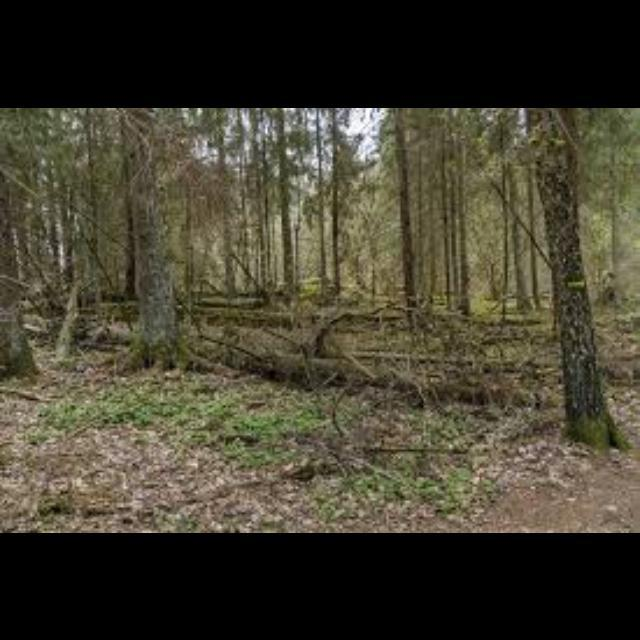fallen_tree: (28, 312, 488, 408), (94, 298, 546, 334)
